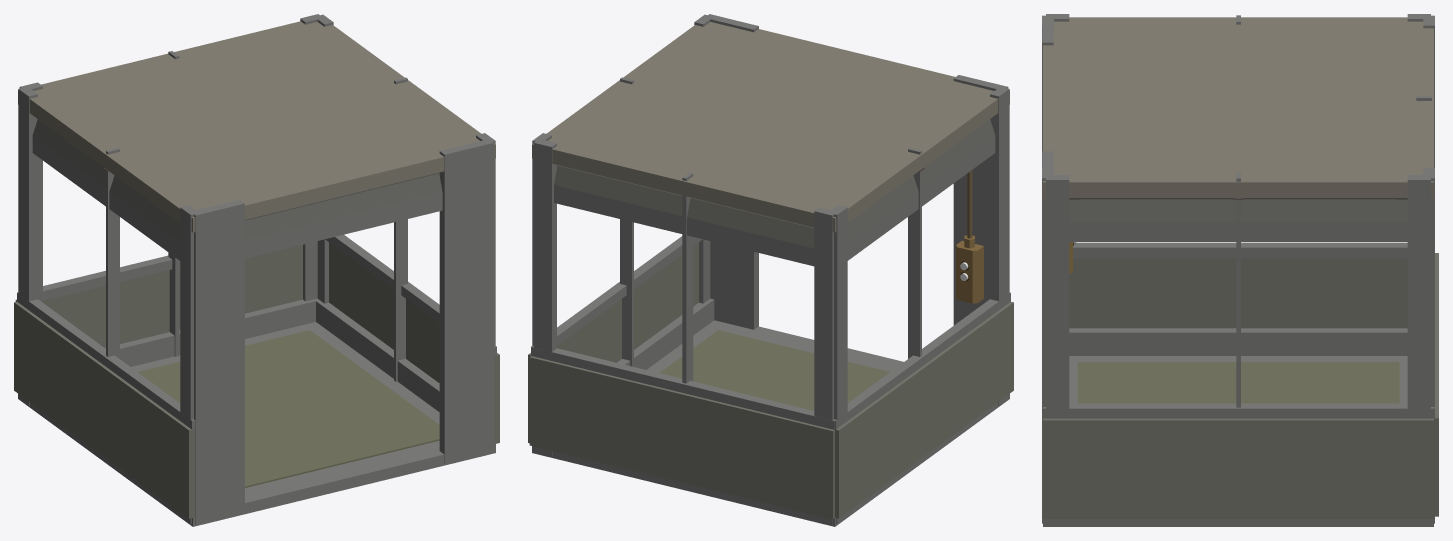
Rendered from elevator.fbx.
The picture shows the model from 3 angles, left to right: view 1: azimuth 30°, elevation 25°; view 2: azimuth 150°, elevation 25°; view 3: azimuth 270°, elevation 25°; orthographic projection. The views are drawn at different scales.
Visible parts, largest first — view 1: Elevator_Base, pCube27, Elevator_Railing_Board, pCube47, Elevator_BaseDarker; view 2: pCube27, Elevator_Base, Elevator_Railing_Board, Elevator_BaseDarker, pCube47, Elevator_Button_Base; view 3: pCube27, Elevator_Railing_Board, Elevator_Base, pCube47, Elevator_BaseDarker.
Boxes of the visible parts, <box> form: Elevator_Base: <box>17,14,496,526</box>; pCube27: <box>18,21,495,232</box>; Elevator_Railing_Board: <box>14,242,499,518</box>; pCube47: <box>138,330,439,487</box>; Elevator_BaseDarker: <box>33,119,442,242</box>; pCube27: <box>532,22,1009,232</box>; Elevator_Base: <box>531,14,1010,526</box>; Elevator_Railing_Board: <box>528,242,1013,519</box>; Elevator_BaseDarker: <box>554,119,994,248</box>; pCube47: <box>659,330,889,410</box>; Elevator_Button_Base: <box>956,235,983,303</box>; pCube27: <box>1043,17,1433,198</box>; Elevator_Railing_Board: <box>1043,253,1438,518</box>; Elevator_Base: <box>1042,14,1434,526</box>; pCube47: <box>1077,362,1399,403</box>; Elevator_BaseDarker: <box>1069,199,1407,221</box>.
Bounding box in the file's own units: 20.5 × 19.61 × 20.3.
